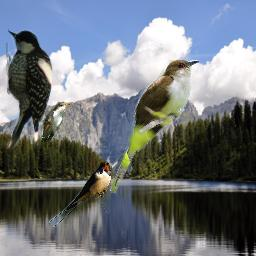Cuckoo: (109, 58, 200, 193), (41, 102, 70, 142)
Swallow: (49, 161, 111, 227)
Woodpecker: (6, 29, 53, 149)
